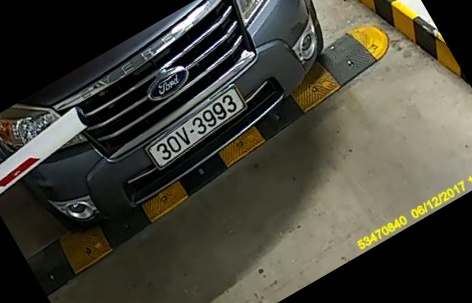plate: (138, 79, 249, 167)
